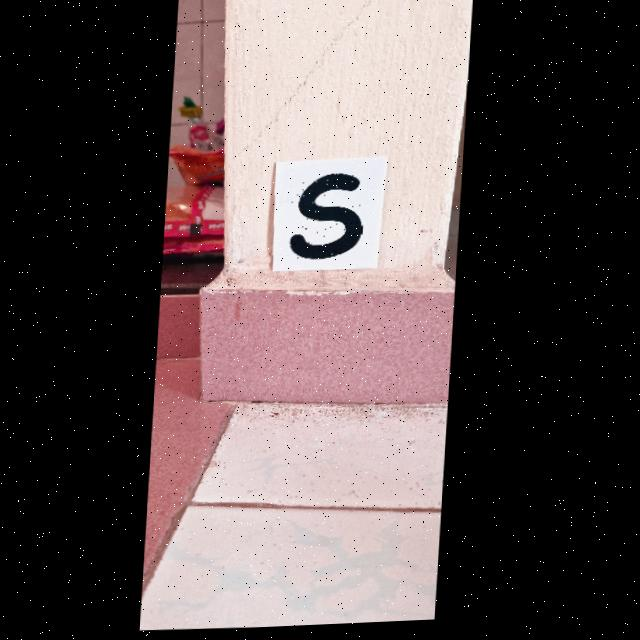S: (291, 176, 364, 261)
